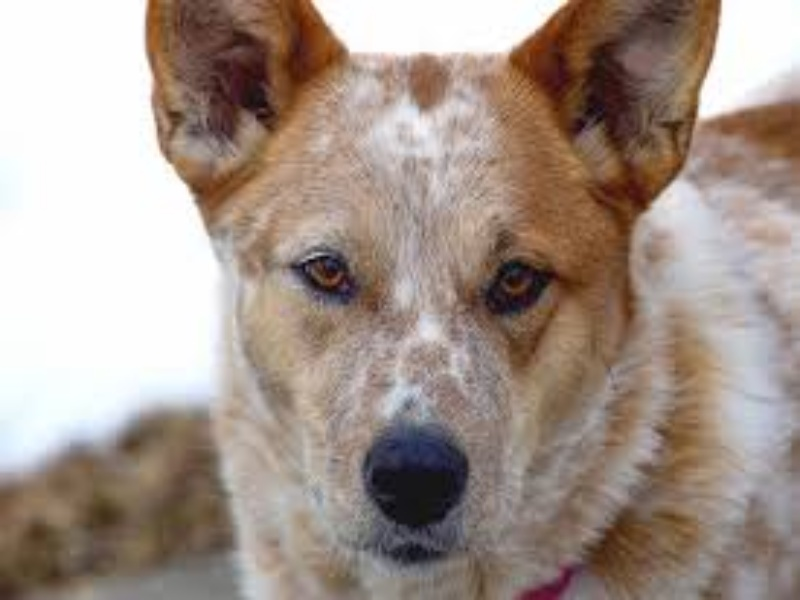dog: (142, 2, 734, 600)
